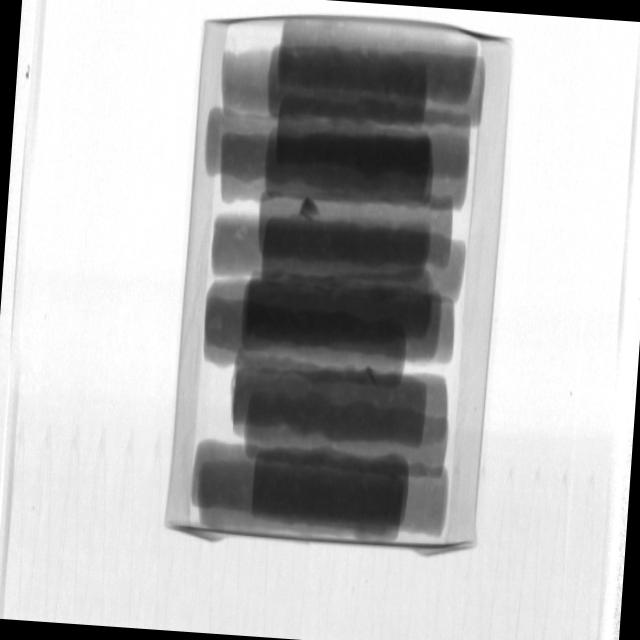ym: (299, 196, 321, 220), (365, 367, 380, 386)
